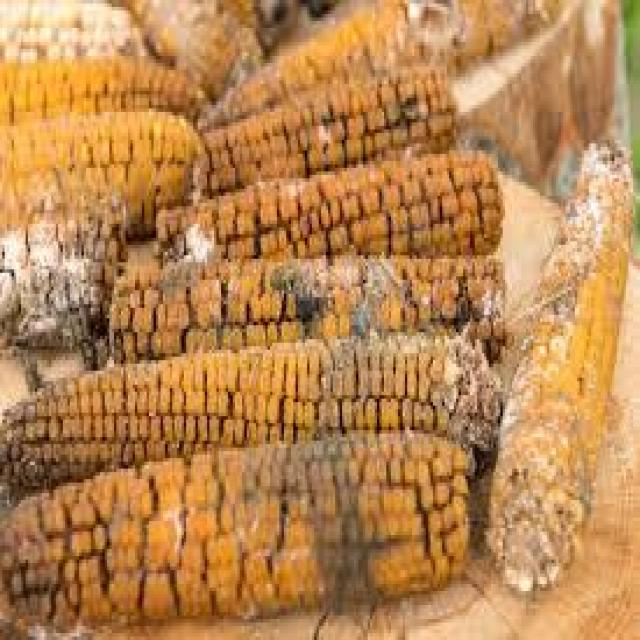organic waste: (0, 426, 465, 636), (0, 336, 498, 482), (482, 133, 633, 591), (107, 248, 503, 360), (151, 147, 503, 255), (198, 66, 458, 172), (195, 0, 558, 73), (0, 105, 195, 231), (0, 178, 121, 343), (0, 59, 198, 119), (0, 0, 142, 63)
